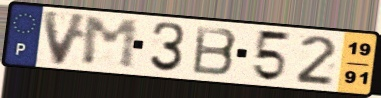2: (292, 34, 340, 87)
3: (149, 21, 188, 74)
5: (251, 28, 291, 84)
B: (190, 24, 240, 78)
M: (80, 15, 141, 71)
V: (40, 8, 92, 67)
